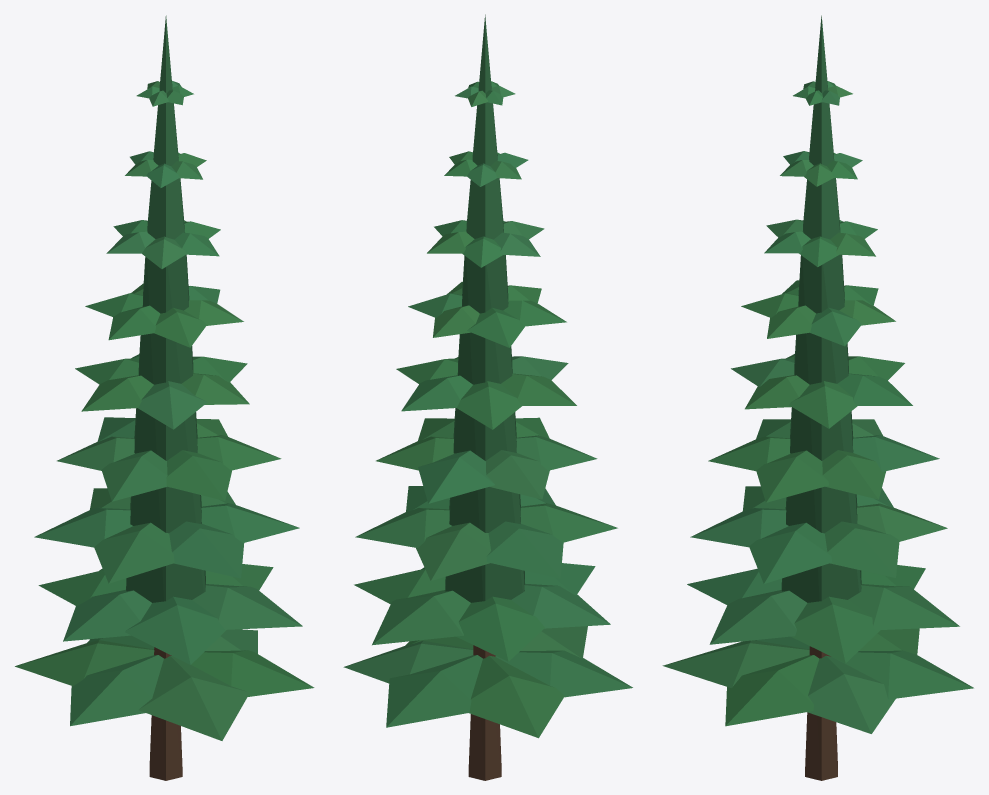
Rendered from conifer_b.glb.
The picture shows the model from 3 angles, left to right: view 1: azimuth 30°, elevation 25°; view 2: azimuth 150°, elevation 25°; view 3: azimuth 270°, elevation 25°; orthographic projection.
Visible parts, largest first — view 1: conifer; view 2: conifer; view 3: conifer.
Boxes of the visible parts, x1,y1,x2,y2 form: conifer: (15,15,314,780); conifer: (343,14,632,780); conifer: (662,15,973,780).
Bounding box in the file's own units: 4.97 × 14.91 × 5.56.
